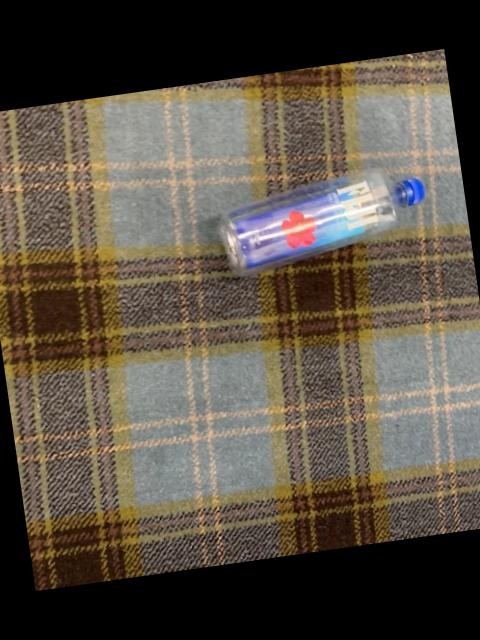plastic: (220, 167, 425, 274)
